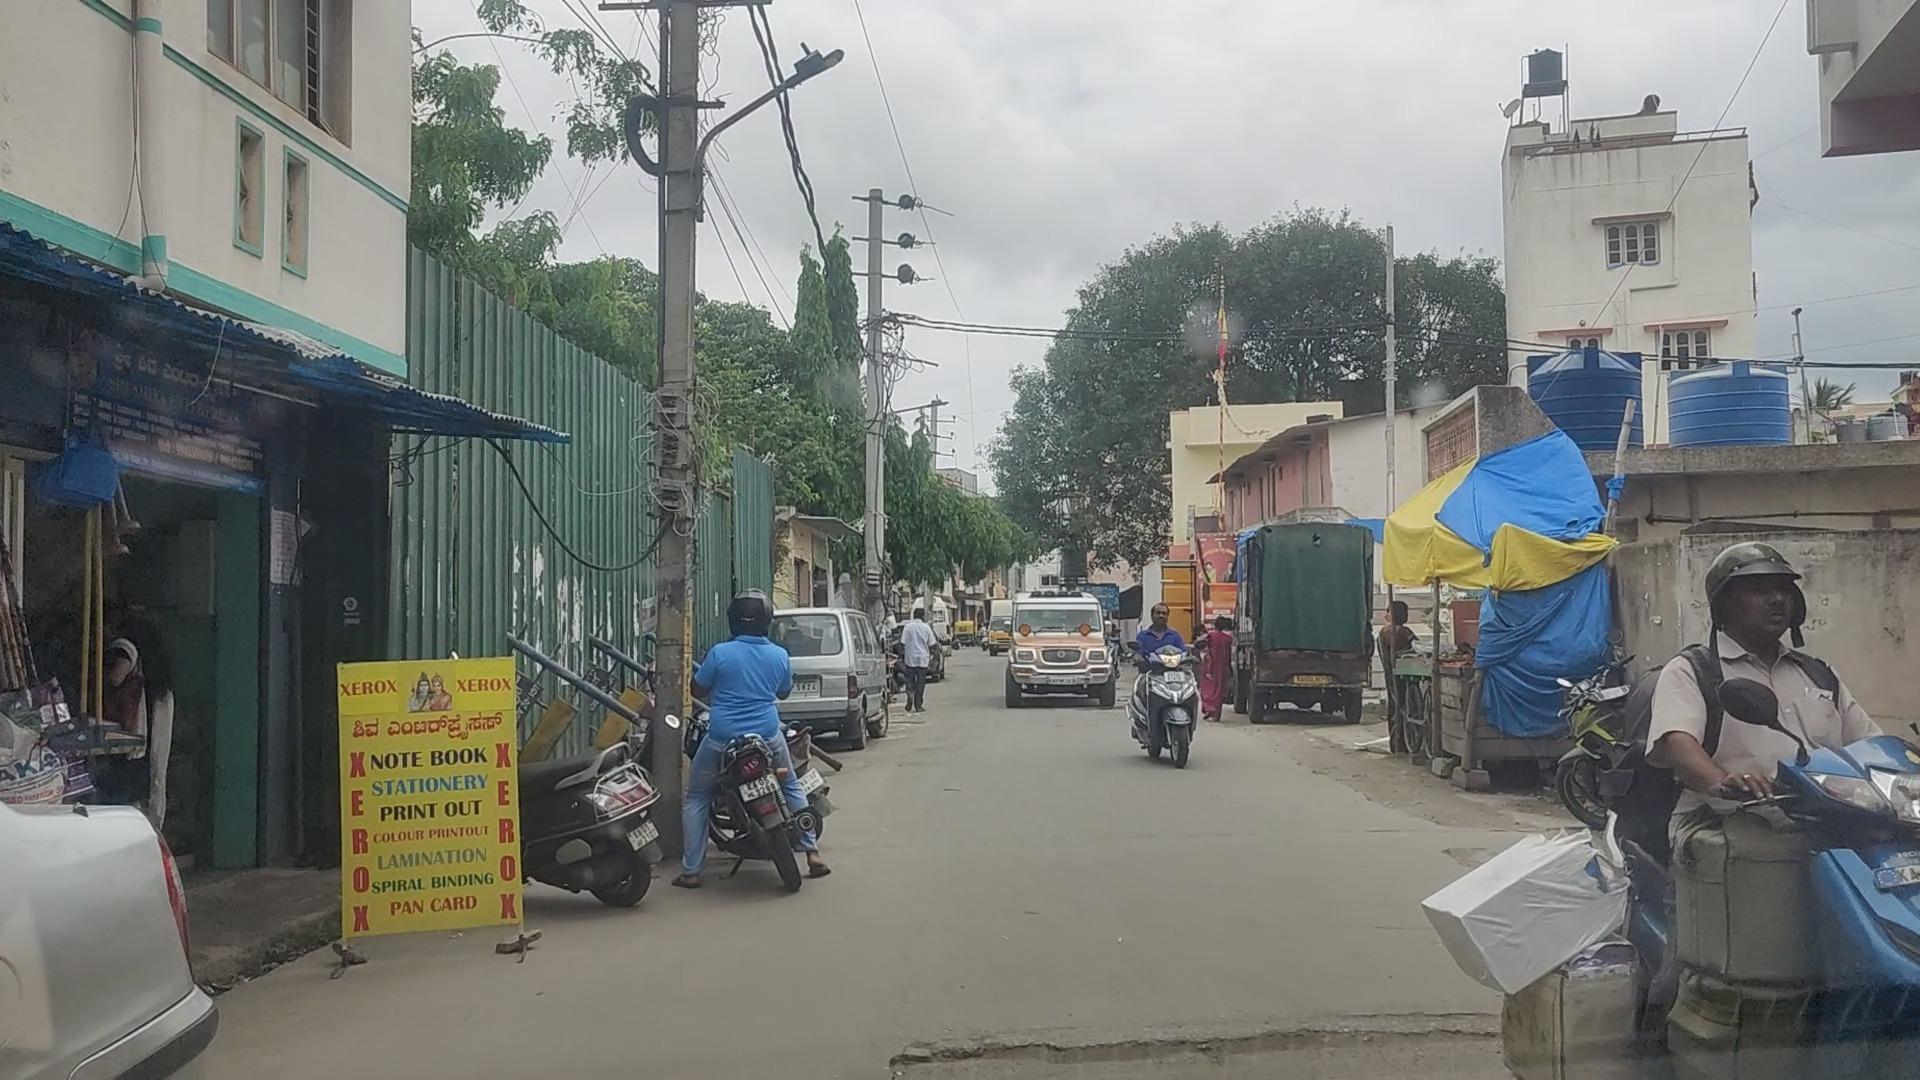LMV: (686, 609, 810, 891), (1138, 609, 1199, 771)
RoadDamages: (865, 1000, 1494, 1080)
